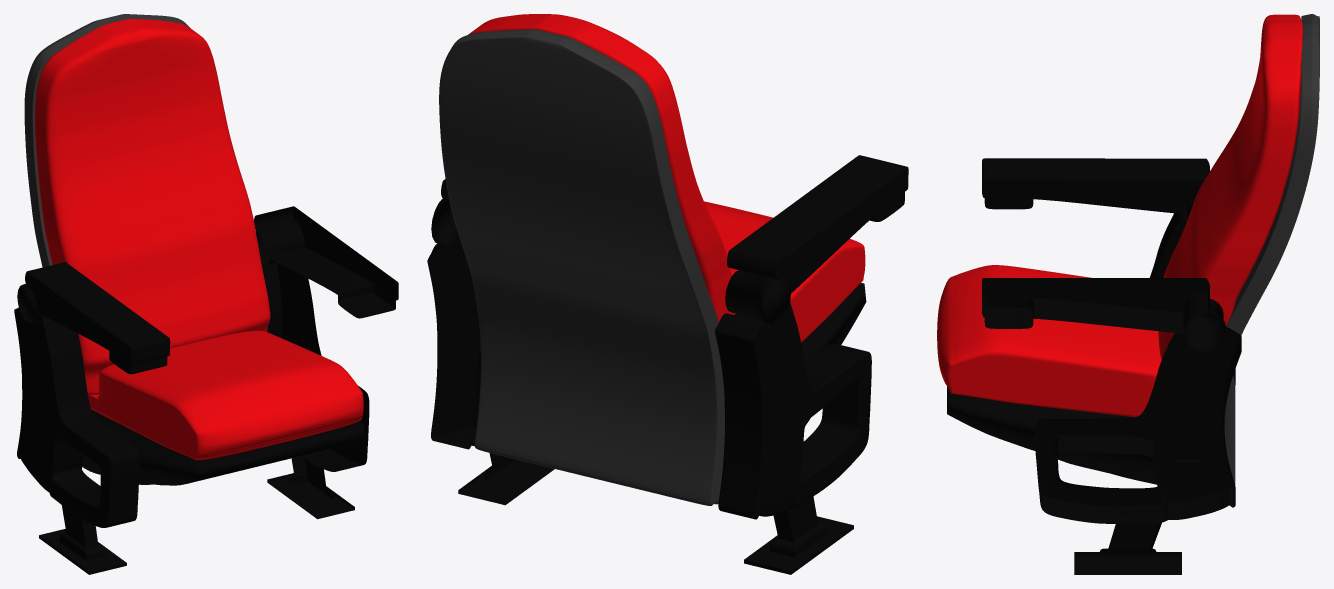
The model's file is cinema-seat.glb.
3 views of the same model, side by side, from view 1: azimuth 30°, elevation 25°; view 2: azimuth 150°, elevation 25°; view 3: azimuth 270°, elevation 25° (orthographic). The views are drawn at different scales.
Visible parts, largest first — view 1: Theater Chair; view 2: Theater Chair; view 3: Theater Chair.
Boxes of the visible parts, x1=… form: Theater Chair: x1=14, y1=14, x2=398, y2=574; Theater Chair: x1=427, y1=14, x2=908, y2=574; Theater Chair: x1=937, y1=14, x2=1319, y2=574.
Size of the model in its own units: 0.7967 by 1.26 by 0.9196.
